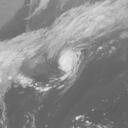cyclone: (56, 44, 83, 78)
